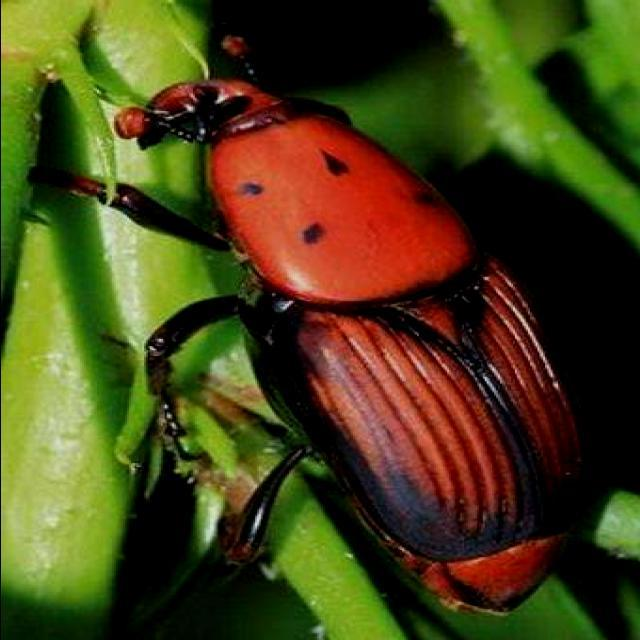Red-palm-weevil: (114, 31, 594, 615)
